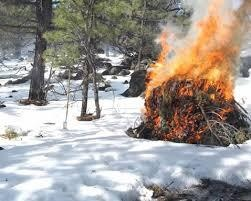fire: (141, 4, 240, 138)
